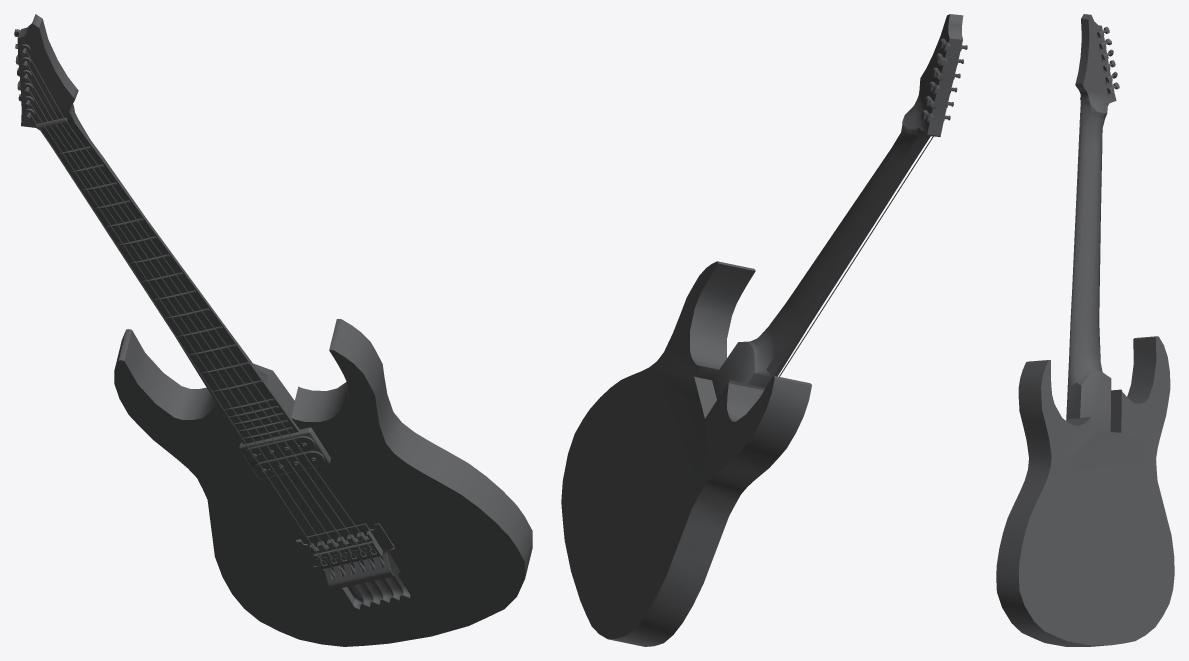
The model's file is guitar.dae.
The picture shows the model from 3 angles, left to right: view 1: azimuth 30°, elevation 25°; view 2: azimuth 150°, elevation 25°; view 3: azimuth 270°, elevation 25°; orthographic projection. The views are drawn at different scales.
Parts seen in each view (by area): view 1: guitar1; view 2: guitar1; view 3: guitar1.
Part boxes in pixels (x1,y1,x2,y2): guitar1: (14,14,532,646); guitar1: (561,14,967,646); guitar1: (996,14,1174,646).
Size of the model in its own units: 8.78 by 12.99 by 4.08.
Materials: 1 (1 with a texture image).
